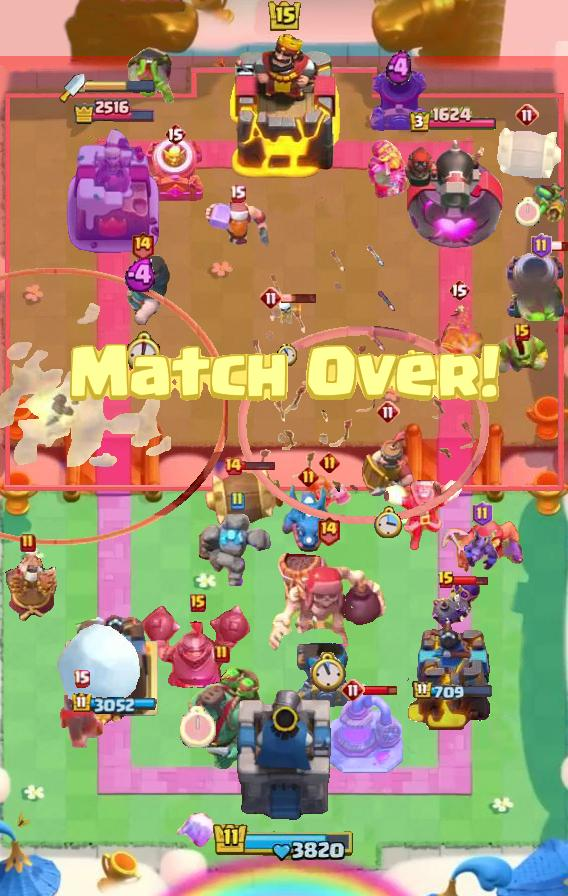bar: (453, 574, 489, 587), (363, 684, 398, 697), (281, 292, 318, 304), (241, 460, 276, 471), (549, 240, 568, 252)
bar-level: (316, 515, 341, 546), (130, 230, 155, 261), (341, 678, 365, 702), (376, 400, 400, 424), (259, 286, 283, 310), (515, 103, 539, 127), (472, 501, 493, 527), (531, 233, 552, 259), (448, 278, 470, 302), (164, 122, 186, 146), (298, 466, 319, 487), (319, 452, 340, 473), (223, 456, 243, 476), (437, 570, 455, 590), (73, 669, 90, 688), (229, 184, 246, 203), (214, 644, 230, 664), (20, 533, 36, 553), (229, 491, 245, 511), (190, 594, 206, 612), (514, 323, 530, 341)
barbarian-barrel: (202, 465, 286, 527), (490, 127, 564, 179)
bomber-evolution: (430, 577, 482, 633)
cannoneer-tower: (400, 132, 507, 256)
clock: (180, 706, 216, 748), (310, 652, 346, 693), (124, 331, 160, 372), (374, 506, 403, 538), (515, 197, 540, 226), (277, 343, 297, 366)
dagger-duchess-tower: (64, 124, 164, 256)
dagger-duchess-tower-bar: (85, 80, 155, 94)
electro-dragon: (281, 482, 335, 554)
elixir: (124, 258, 160, 292), (386, 50, 412, 86)
firecracker-evolution: (431, 304, 487, 396)
goblin-ball: (125, 45, 175, 105)
goblin-brawler: (492, 330, 552, 384)
golemite: (199, 514, 275, 592)
ice-spirit-evolution: (177, 811, 227, 849)
ice-wizard: (381, 478, 467, 552)
king-tower: (226, 33, 342, 181), (232, 686, 336, 826)
king-tower-bar: (212, 821, 356, 863)
knight: (58, 690, 105, 748)
knight-evolution: (364, 137, 410, 199)
lumberjack: (203, 200, 271, 254)
minion: (464, 530, 500, 572)
mortar: (368, 67, 430, 135), (296, 643, 356, 707)
mortar-evolution: (504, 251, 568, 321), (143, 135, 207, 205)
queen-tower: (63, 613, 166, 731), (405, 617, 501, 731)
royal-recruit: (361, 428, 415, 498)
skeleton: (273, 296, 301, 328)
spear-goblin: (520, 181, 568, 223)
tower-bar: (408, 106, 498, 134), (72, 97, 156, 125), (72, 692, 157, 714), (412, 680, 494, 702)
valkyrie: (305, 474, 353, 520)
